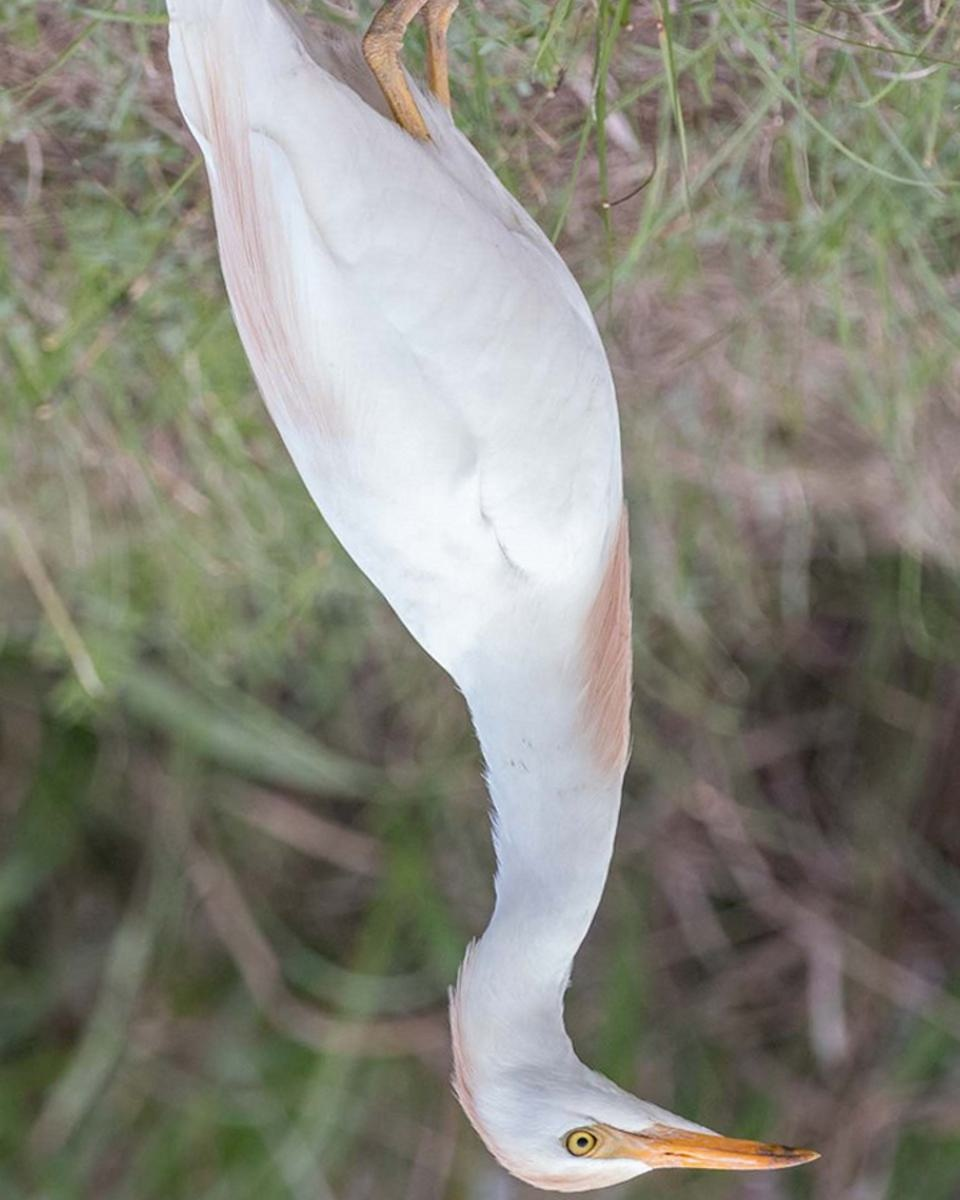egret: (195, 54, 824, 1176)
